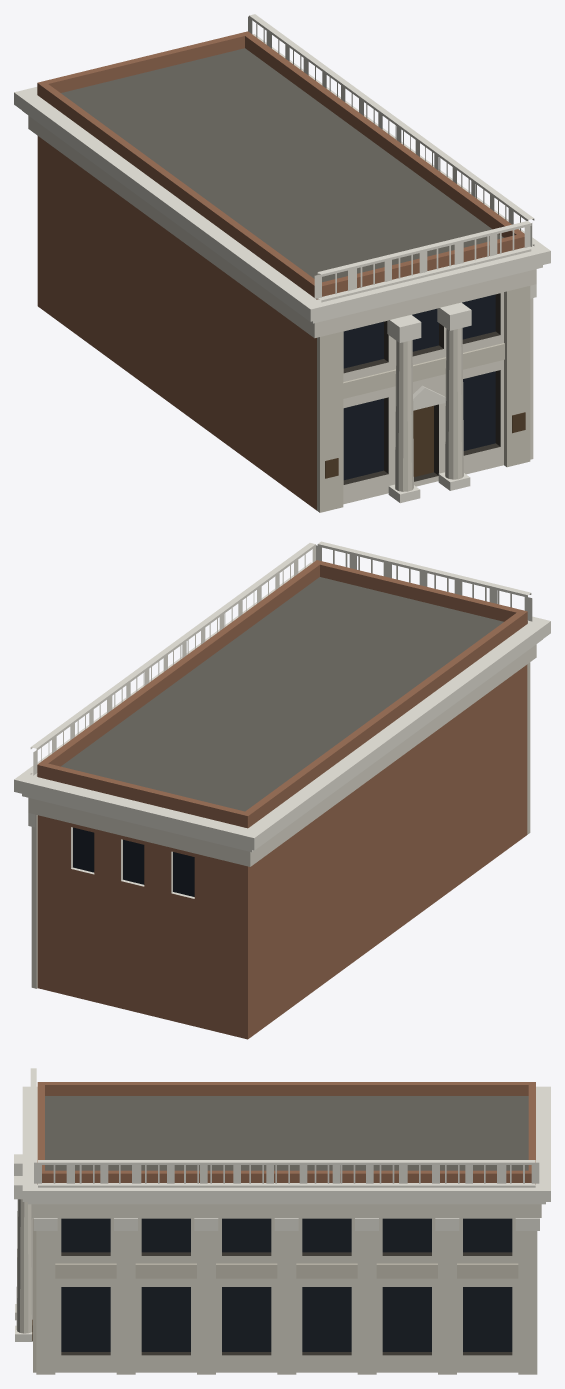
Rendered from bank-of-commerce.glb.
3 views of the same model, one above another, from view 1: azimuth 30°, elevation 25°; view 2: azimuth 150°, elevation 25°; view 3: azimuth 270°, elevation 25° (orthographic). The views are drawn at different scales.
Visible parts, largest first — view 1: bank_brick, bank_roof, bank_trim, bank_stone, bank_stone2, bank_glass, bank_sash, bank_bronze; view 2: bank_brick, bank_roof, bank_trim, bank_stone, bank_glass, bank_stone2; view 3: bank_stone, bank_roof, bank_glass, bank_trim, bank_brick, bank_stone2, bank_sash.
Boxes of the visible parts, x1=… form: bank_brick: x1=37, y1=31, x2=524, y2=510; bank_roof: x1=61, y1=48, x2=503, y2=282; bank_trim: x1=14, y1=14, x2=550, y2=503; bank_stone: x1=28, y1=115, x2=536, y2=504; bank_stone2: x1=317, y1=286, x2=530, y2=512; bank_glass: x1=343, y1=294, x2=495, y2=480; bank_sash: x1=343, y1=293, x2=500, y2=484; bank_bronze: x1=325, y1=405, x2=525, y2=478; bank_brick: x1=37, y1=560, x2=527, y2=1039; bank_roof: x1=61, y1=577, x2=503, y2=811; bank_trim: x1=14, y1=541, x2=550, y2=898; bank_stone: x1=28, y1=644, x2=536, y2=988; bank_glass: x1=73, y1=827, x2=194, y2=896; bank_stone2: x1=527, y1=662, x2=530, y2=834; bank_stone: x1=16, y1=1199, x2=541, y2=1374; bank_roof: x1=45, y1=1096, x2=528, y2=1170; bank_glass: x1=61, y1=1218, x2=512, y2=1351; bank_trim: x1=14, y1=1068, x2=550, y2=1341; bank_brick: x1=37, y1=1082, x2=535, y2=1184; bank_stone2: x1=33, y1=1218, x2=518, y2=1372; bank_sash: x1=61, y1=1252, x2=512, y2=1355.
Bounding box in the file's own units: 14.4 × 13.7 × 31.3.
